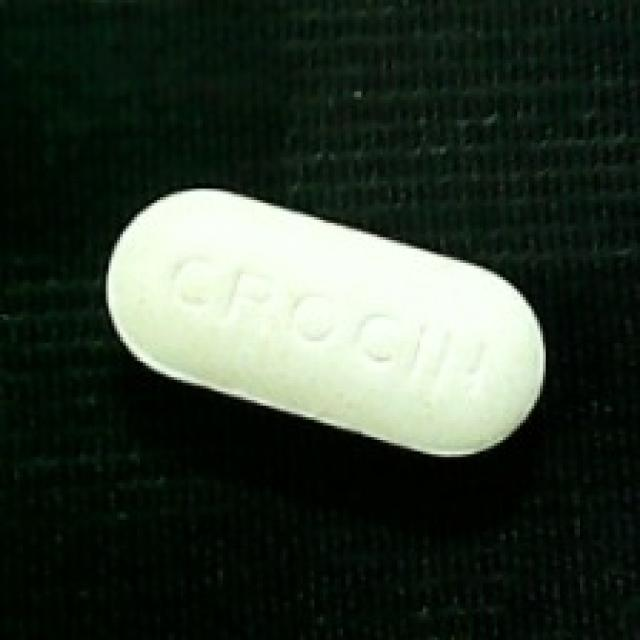no-defect: (104, 186, 549, 461)
